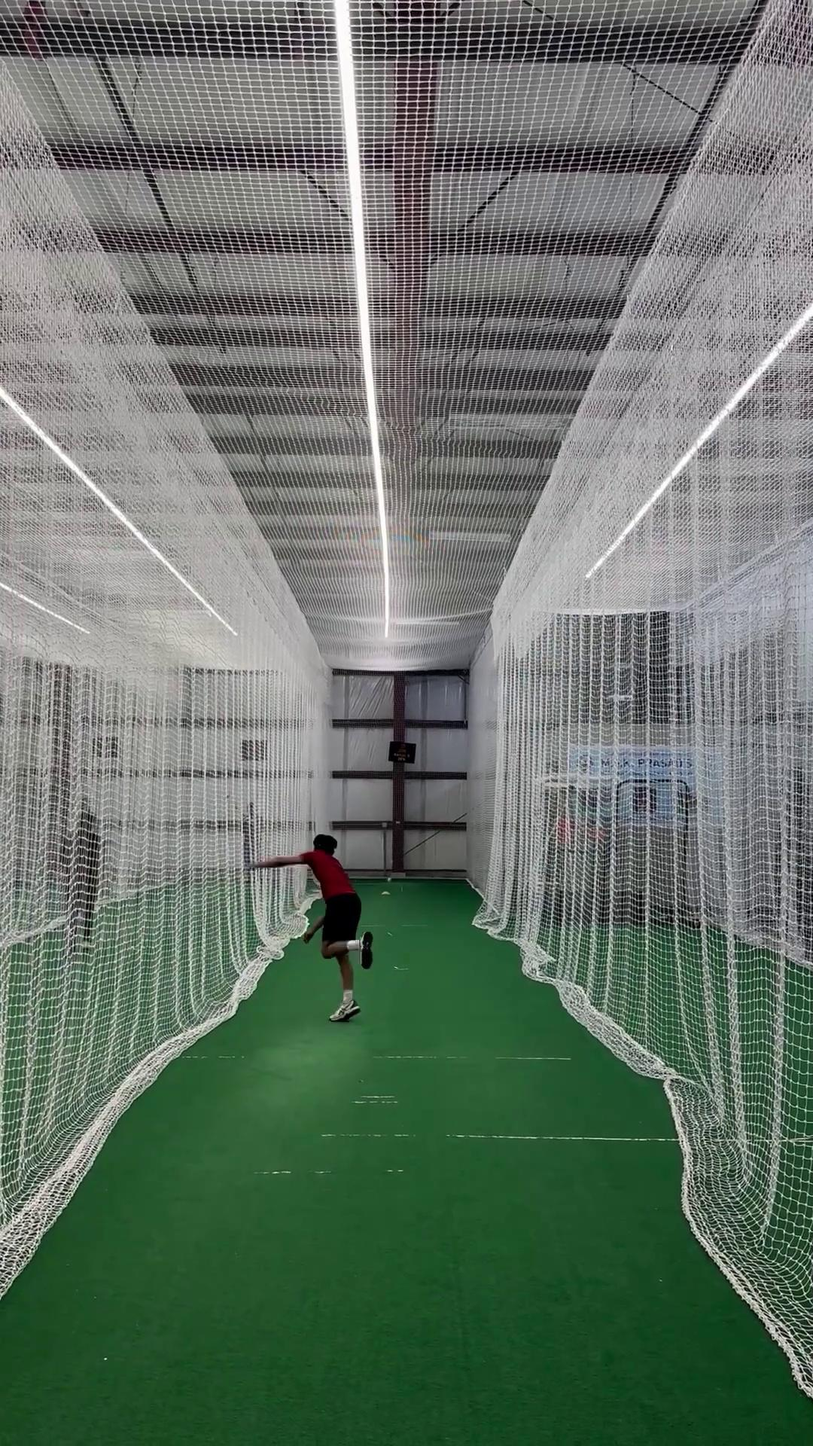ball: (384, 875, 394, 885)
